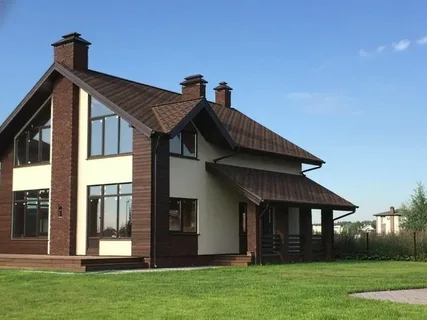private_hause: (15, 39, 343, 268)
